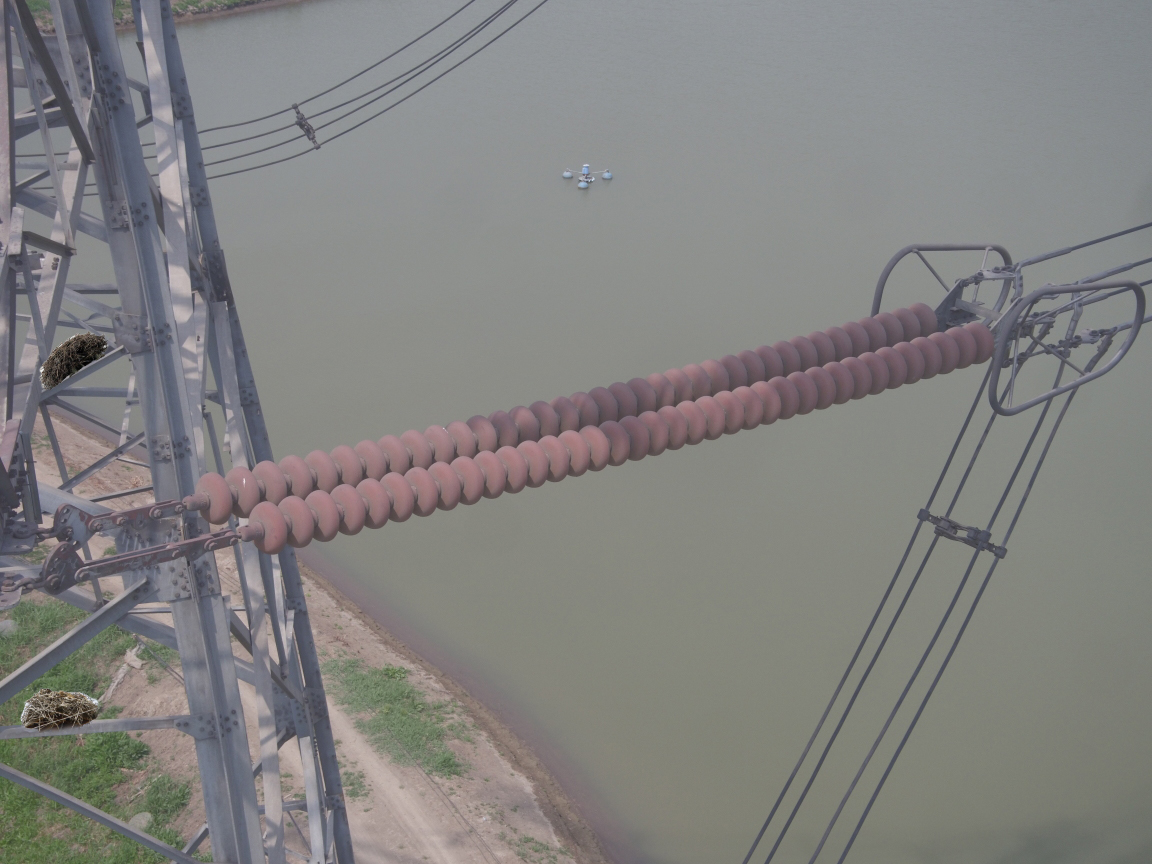nest: (38, 325, 104, 396), (17, 692, 103, 733)
